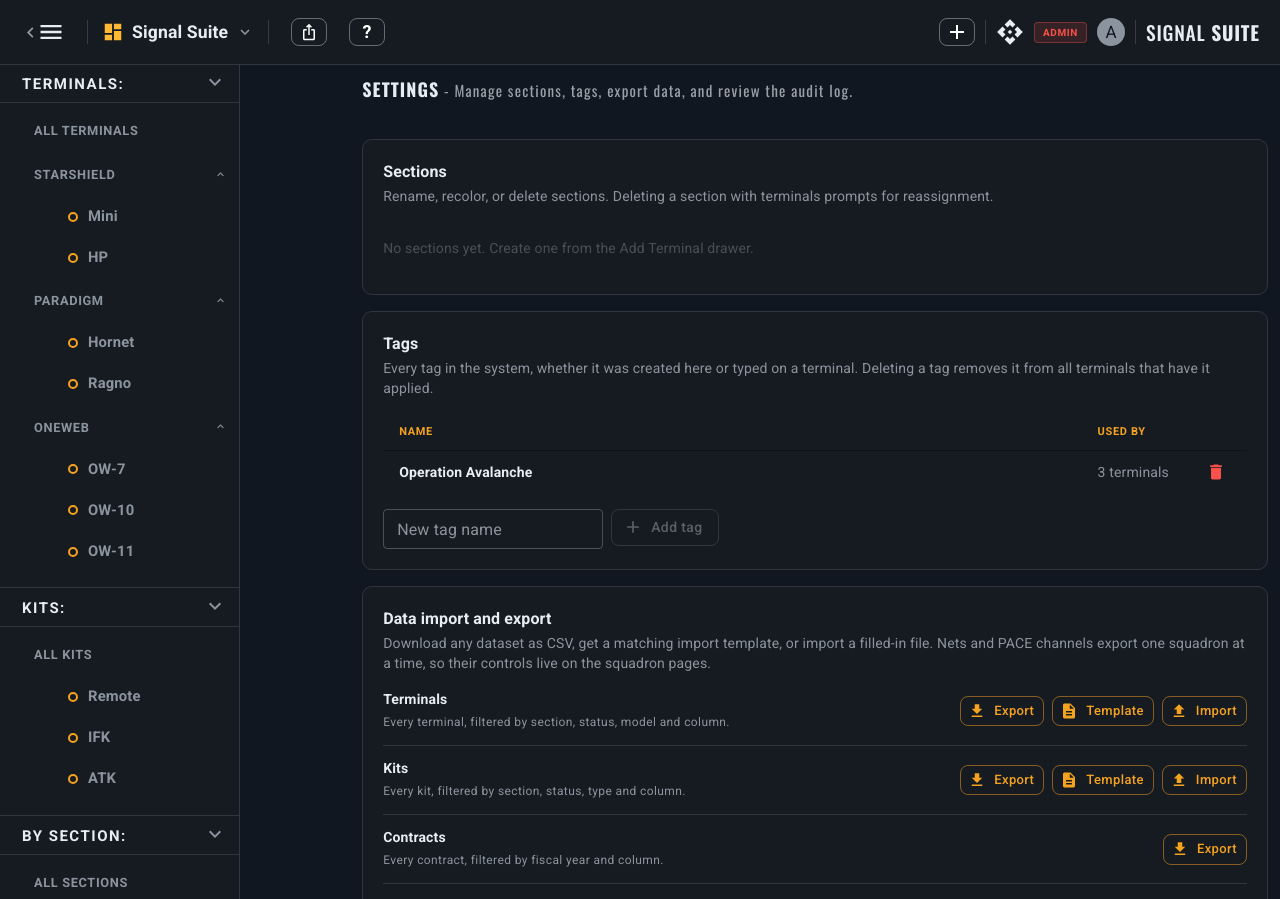
Scenario: SettingsPage tag panel › names the affected count before deleting a tag in use
The image size is (1280, 899).
Click the button named "delete tag Operation Avalanche". click: (1216, 472)
box: top-left (1201, 457), bottom-right (1231, 487)
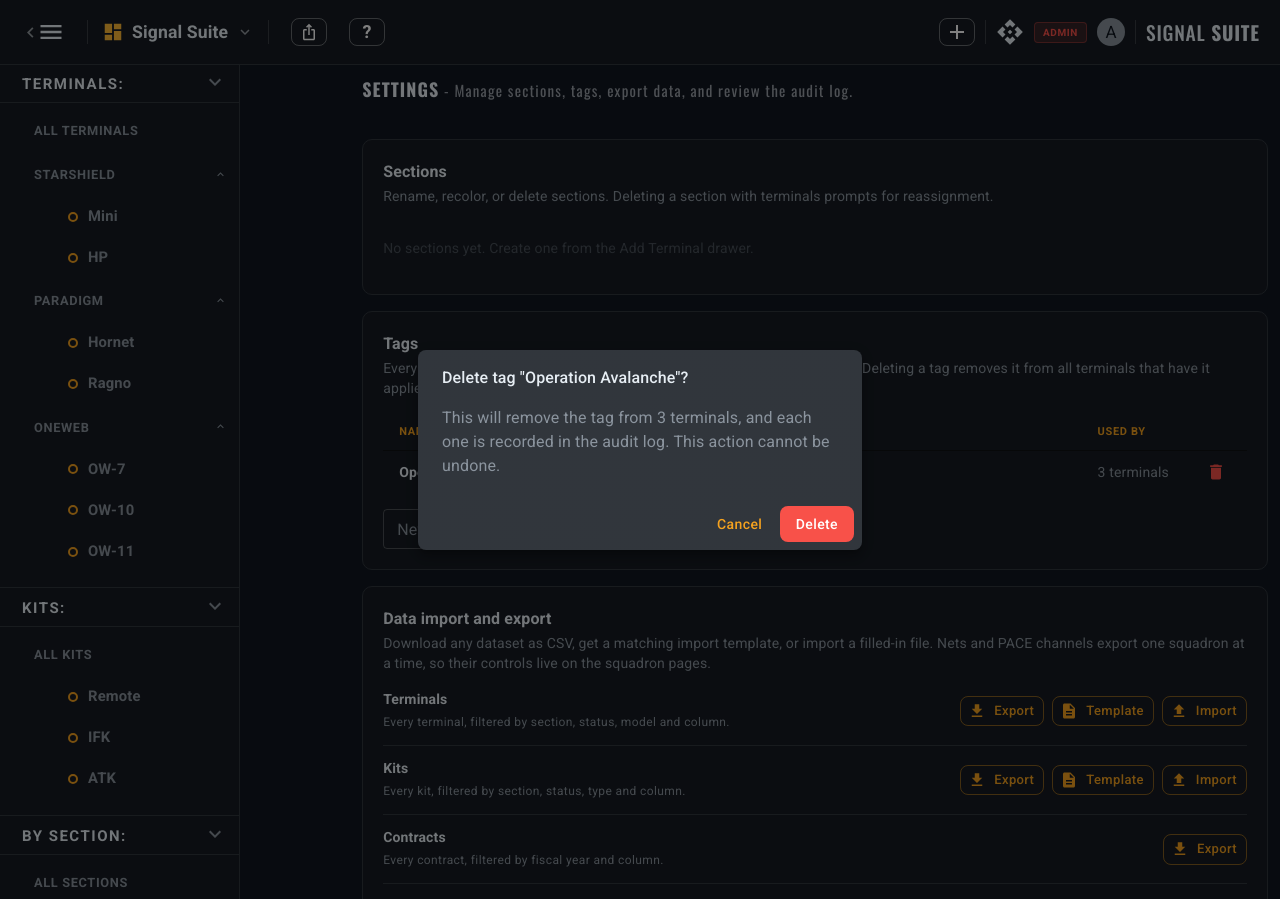
Expected: the text "remove the tag from 3 terminals" is shown, top-left (442, 408), bottom-right (830, 475)
